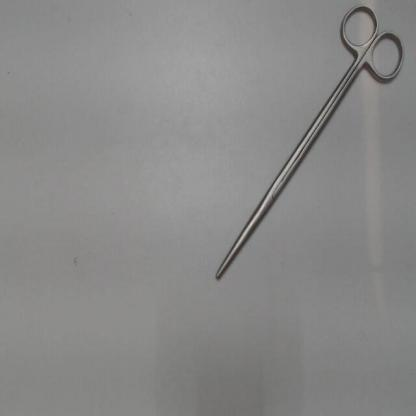9 Metzenbaum Scissors: (212, 1, 407, 288)
